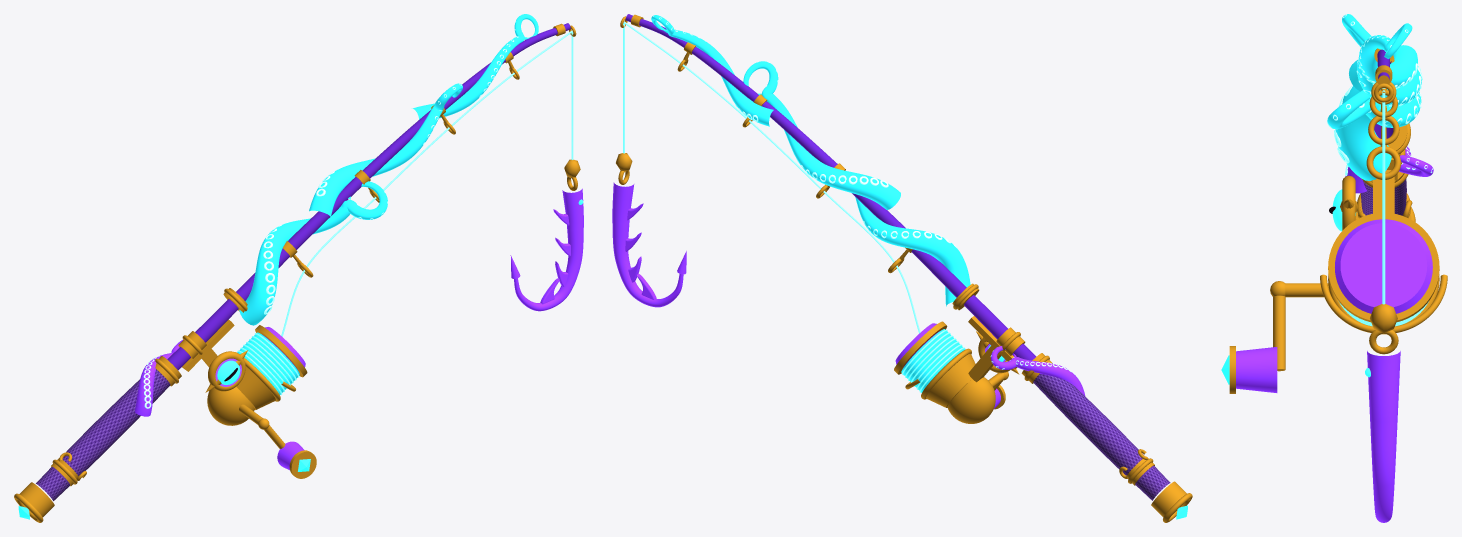
The model's file is rod_kraken.glb.
3 views of the same model, side by side, from view 1: azimuth 30°, elevation 25°; view 2: azimuth 150°, elevation 25°; view 3: azimuth 270°, elevation 25° (orthographic). The views are drawn at different scales.
Visible parts, largest first — view 1: blank, grip, tentacle_a, tentacle_b, hook_body, tentacle_c, reel_line_wrap, reel_body, line, reel_rotor, tentacle_grip; view 2: blank, grip, tentacle_b, tentacle_a, hook_body, tentacle_c, reel_body, reel_line_wrap, reel_rotor, tentacle_grip, line; view 3: reel_face, hook_body, tentacle_a, reel_flange, tentacle_c, reel_knob, tentacle_b, reel_bail, reel_crank_arm, drop_line, tentacle_grip, reel_stem (+12 smaller).
Part boxes in pixels (<box>): blank: <box>167,23,570,370</box>; grip: <box>36,369,170,500</box>; tentacle_a: <box>239,181,387,325</box>; tentacle_b: <box>309,83,462,217</box>; hook_body: <box>514,188,583,311</box>; tentacle_c: <box>412,14,538,119</box>; reel_line_wrap: <box>237,332,299,394</box>; reel_body: <box>207,387,254,425</box>; line: <box>281,30,572,336</box>; reel_rotor: <box>236,366,275,409</box>; tentacle_grip: <box>134,340,182,416</box>; blank: <box>625,14,1036,360</box>; grip: <box>1033,374,1170,500</box>; tentacle_b: <box>743,61,900,209</box>; tentacle_a: <box>855,197,970,306</box>; hook_body: <box>612,182,683,307</box>; tentacle_c: <box>651,15,773,126</box>; reel_body: <box>947,377,995,423</box>; reel_line_wrap: <box>901,329,964,392</box>; reel_rotor: <box>926,353,975,407</box>; tentacle_grip: <box>991,346,1085,395</box>; line: <box>623,21,920,333</box>; reel_face: <box>1335,219,1432,313</box>; hook_body: <box>1367,351,1400,522</box>; tentacle_a: <box>1327,85,1421,180</box>; reel_flange: <box>1328,212,1439,322</box>; tentacle_c: <box>1359,23,1417,87</box>; reel_knob: <box>1236,347,1277,392</box>; tentacle_b: <box>1342,14,1421,106</box>; reel_bail: <box>1320,274,1447,334</box>; reel_crank_arm: <box>1273,295,1285,371</box>; drop_line: <box>1382,93,1385,304</box>; tentacle_grip: <box>1345,146,1433,193</box>; reel_stem: <box>1373,170,1394,213</box>.
Bounding box in the file's own units: 2.28 × 1.47 × 0.4826.
11 materials, 1 textured.
